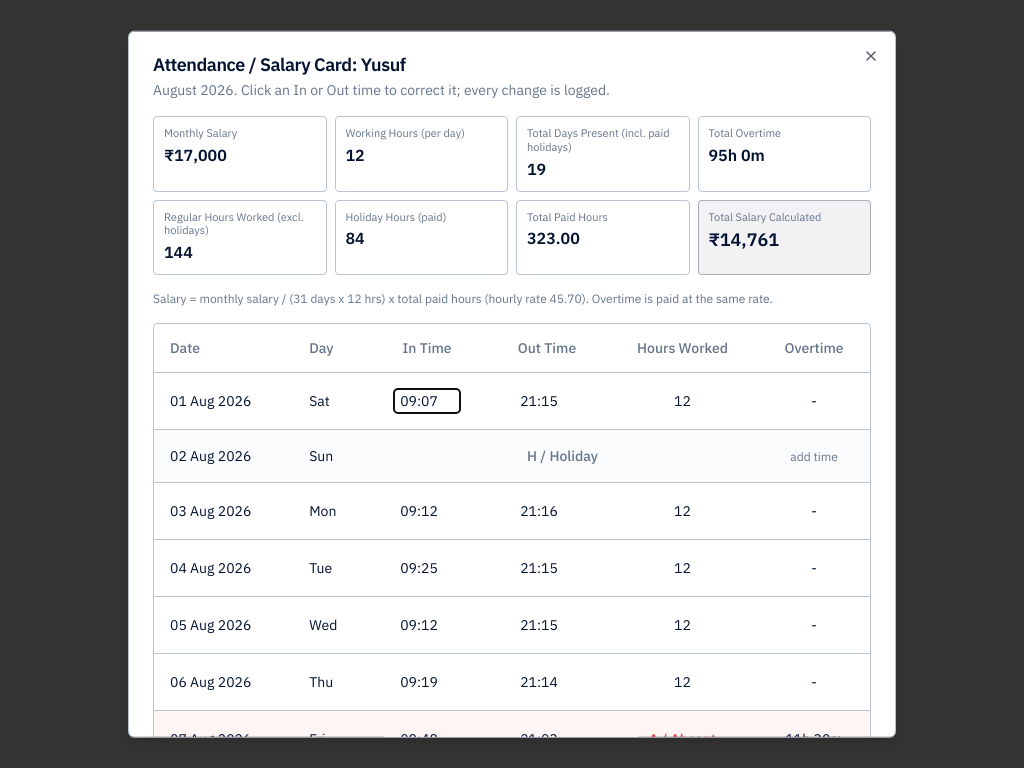
Test case: SalaryCardDialog › editing a time requires a reason and is sent to the log
The width and height of the screenshot is (1024, 768).
Later steps or results of the test are not shown.
Note: 1 Aug row: click the Out time (21:15)
Click the button titled "Click to edit" in the row of "01 Aug 2026" at {"x": 547, "y": 400}, box top-left (514, 388), bottom-right (580, 412)
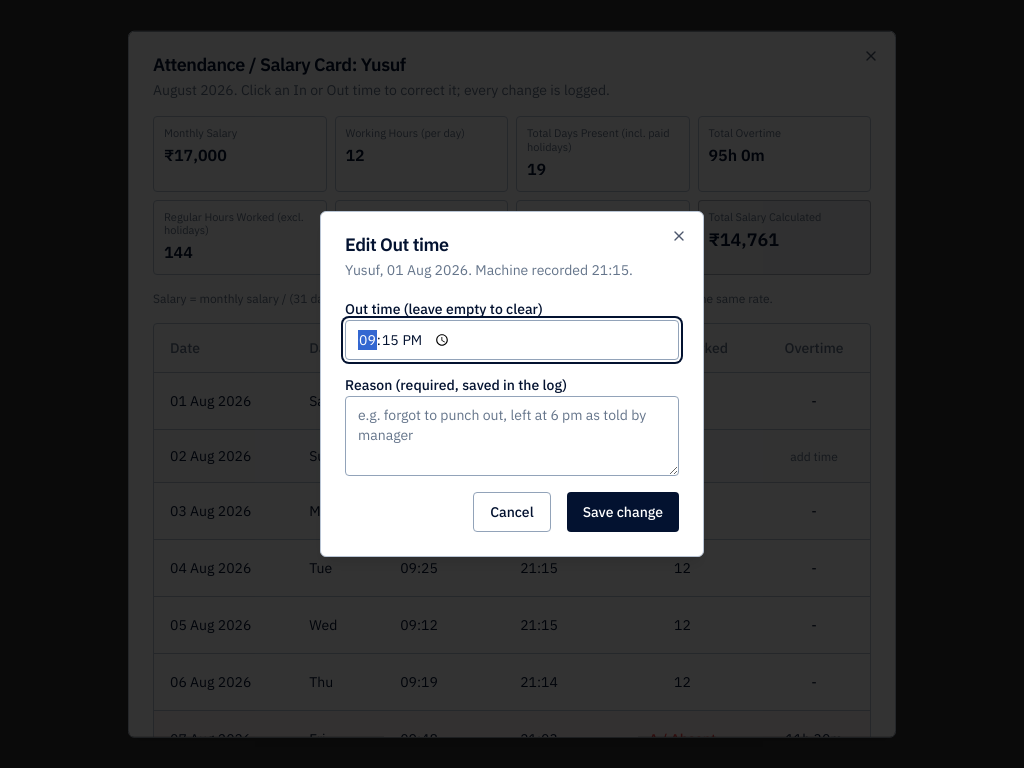
Now the heading "Edit Out time" is shown, box top-left (345, 233), bottom-right (449, 256)
